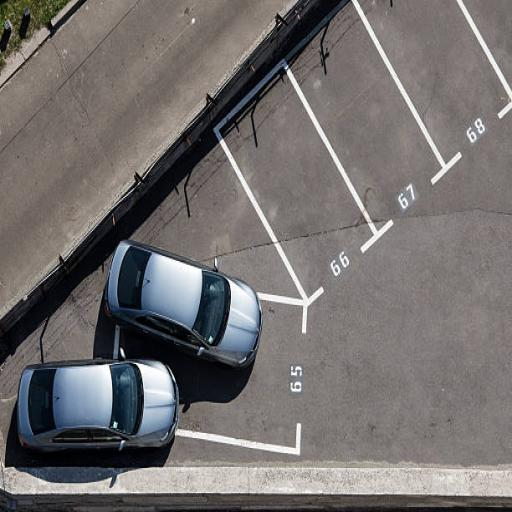Illegal-parking: (94, 200, 273, 381), (6, 346, 206, 484)
